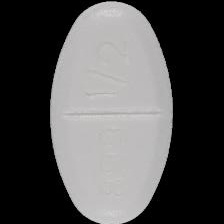61919-198: (0, 0, 224, 224)
